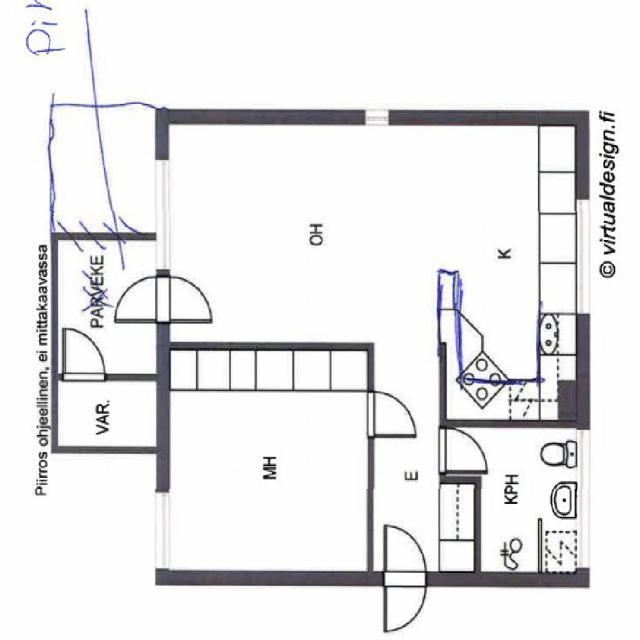door: (156, 277, 211, 322), (385, 526, 426, 586), (116, 277, 170, 322), (385, 571, 426, 630), (366, 392, 414, 437), (438, 428, 486, 473), (63, 328, 104, 380)
